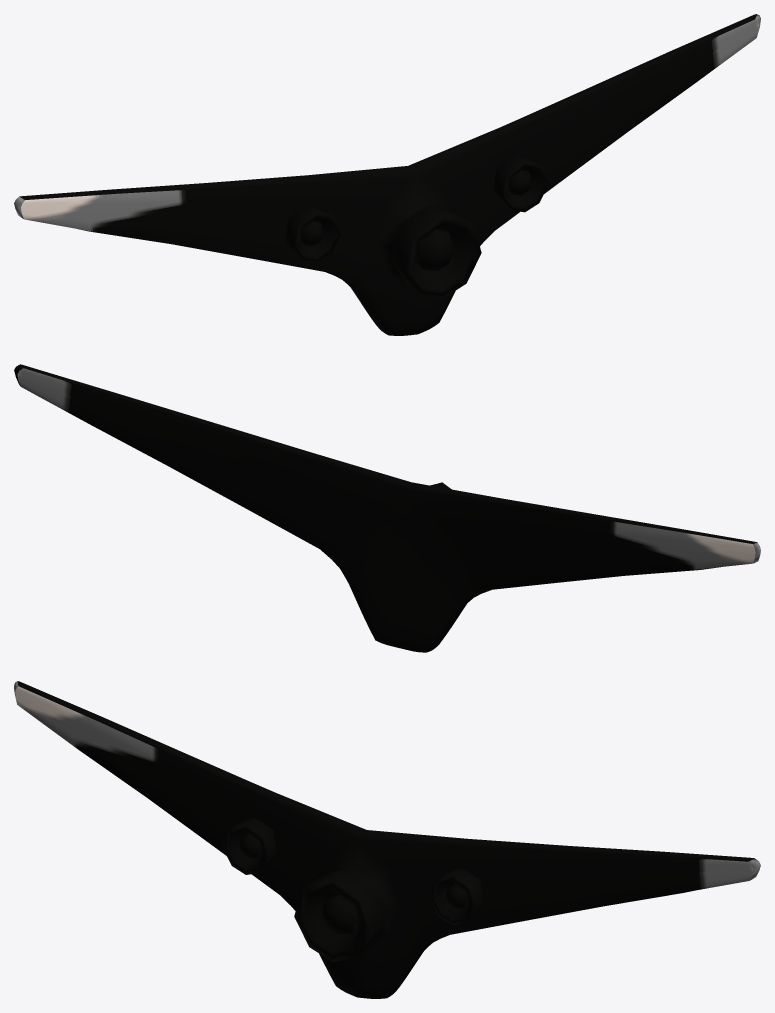
File: Spotlight.fbx
The picture shows the model from 3 angles, top to bottom: view 1: azimuth 30°, elevation 25°; view 2: azimuth 150°, elevation 25°; view 3: azimuth 330°, elevation 25°; orthographic projection.
Visible parts, largest first — view 1: polySurface7; view 2: polySurface7; view 3: polySurface7.
Boxes of the visible parts, x1,y1,x2,y2 form: polySurface7: (14, 14, 760, 335); polySurface7: (14, 364, 760, 652); polySurface7: (14, 681, 760, 998).
Bounding box in the file's own units: 0.697 × 0.1852 × 0.0932.
Materials: 1 (1 with a texture image).
